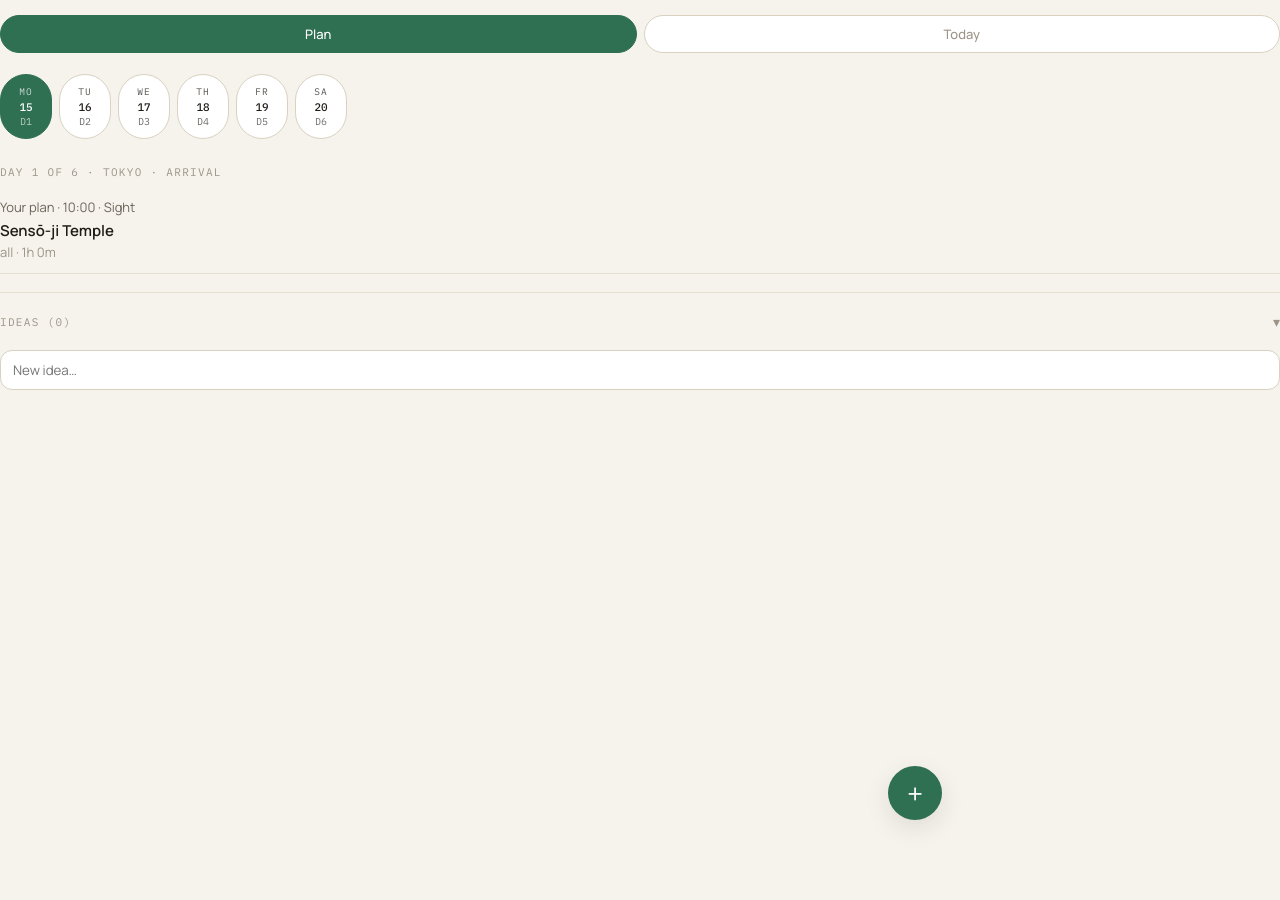
ItineraryTab — View Details › tapping a stop card opens the read-only View, not the edit form
Click the button with aria-label "Open Sensō-ji Temple".
click(31, 207)  # box [0,186,1279,274]
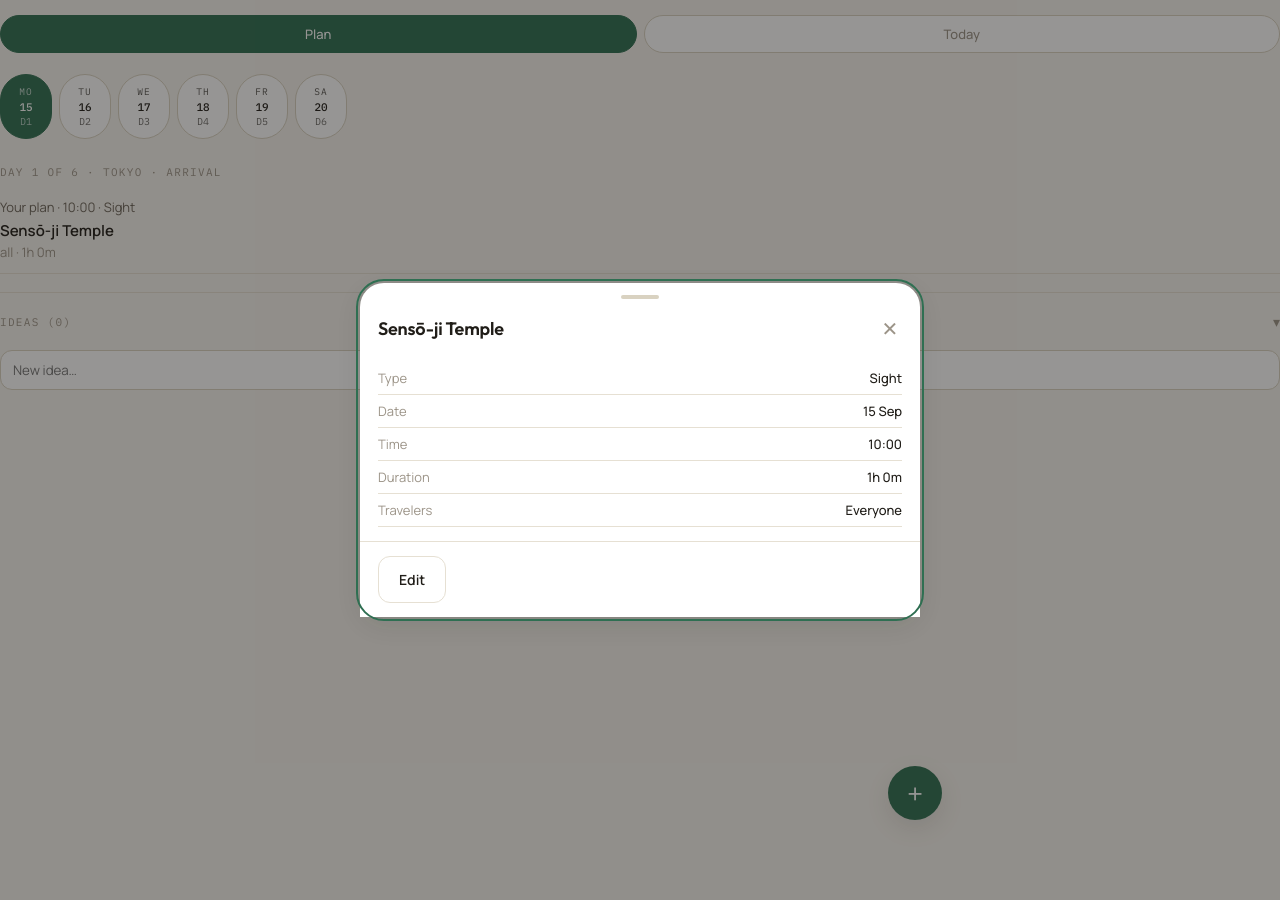
Expected: the text "Type" is shown, [378,369,407,387]
Expected: the text "Sight" is shown, [870,369,902,387]
